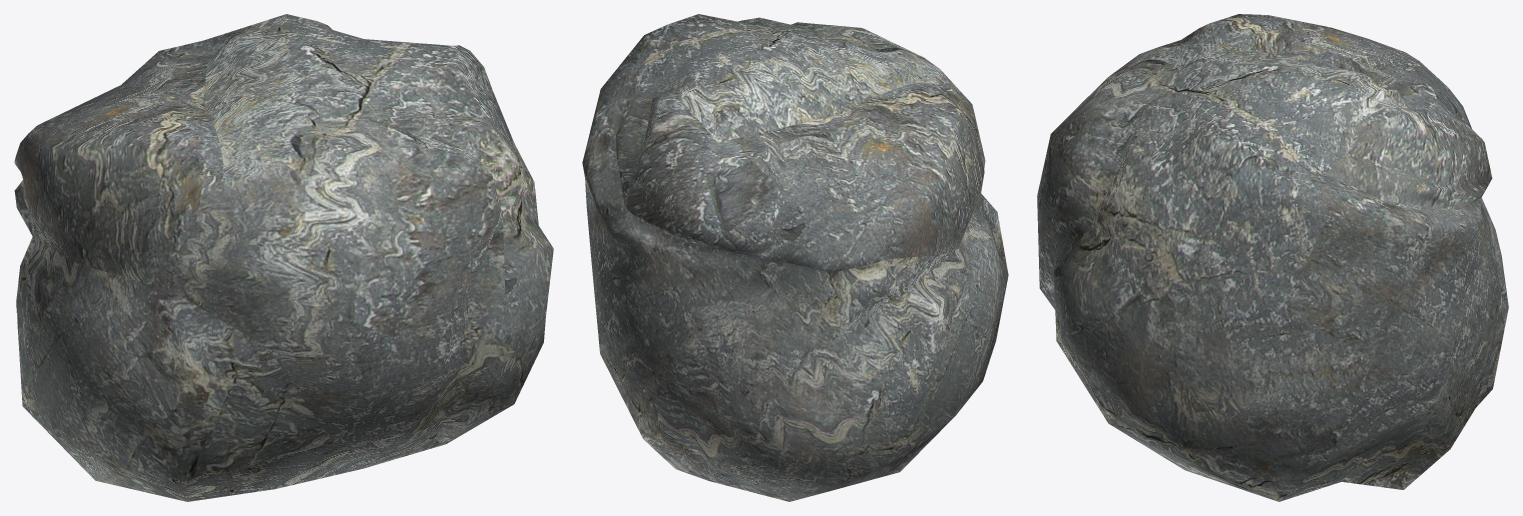
The model's file is Rock 3.FBX.
3 views of the same model, side by side, from view 1: azimuth 30°, elevation 25°; view 2: azimuth 150°, elevation 25°; view 3: azimuth 270°, elevation 25° (orthographic). The views are drawn at different scales.
Parts seen in each view (by area): view 1: RockMesh; view 2: RockMesh; view 3: RockMesh.
Boxes of the visible parts, bbox=[...] form: RockMesh: bbox=[14, 14, 553, 501]; RockMesh: bbox=[582, 14, 1008, 501]; RockMesh: bbox=[1037, 14, 1508, 501].
Size of the model in its own units: 141 by 143 by 148.
1 material, 1 textured.
